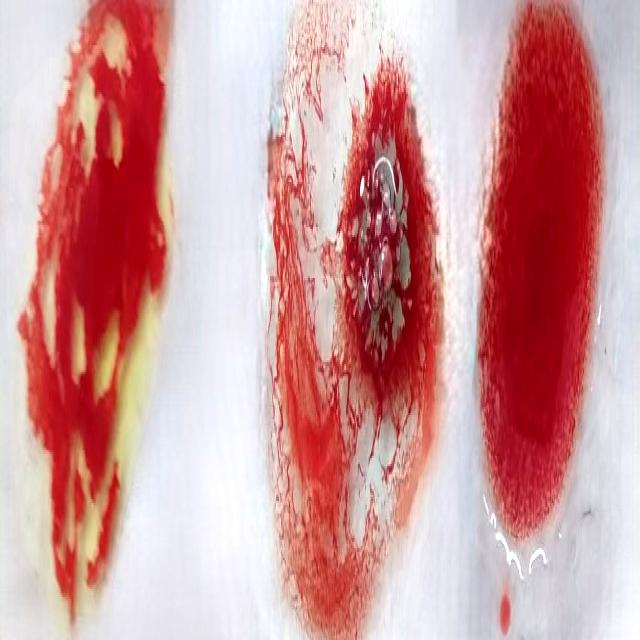A: (263, 8, 441, 632)
B: (22, 3, 169, 619)
D: (476, 3, 602, 544)
